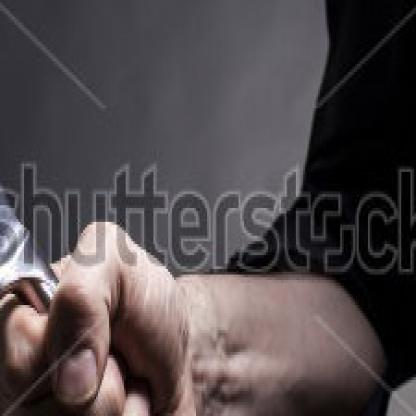knife: (0, 0, 154, 414)
